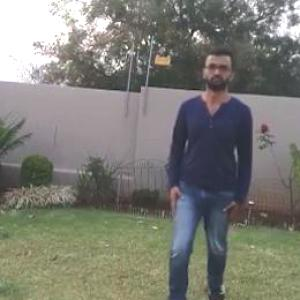follow: (170, 58, 248, 299)
